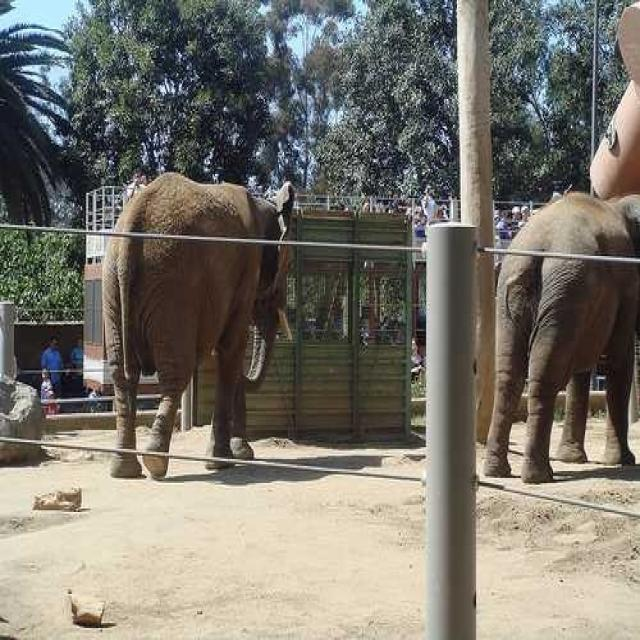Elephant: (100, 169, 296, 480), (481, 189, 639, 483)
person: (409, 337, 424, 382)
